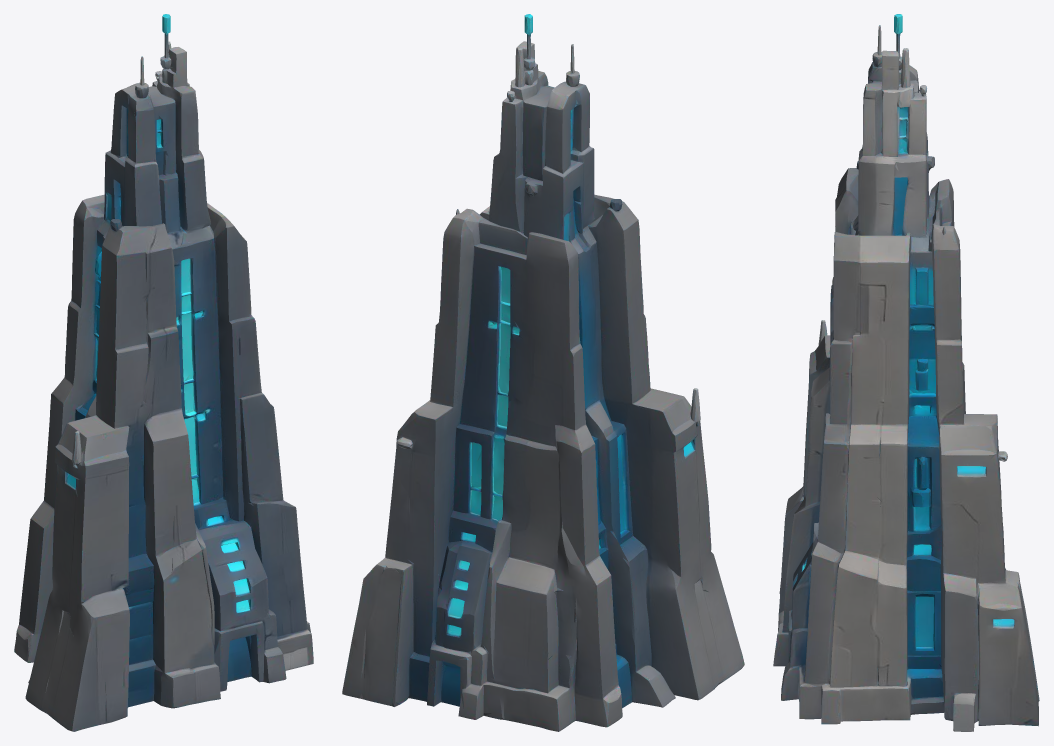
3 views of the same model, side by side, from view 1: azimuth 30°, elevation 25°; view 2: azimuth 150°, elevation 25°; view 3: azimuth 270°, elevation 25° (orthographic). The views are drawn at different scales.
Parts seen in each view (by area): view 1: Mesh; view 2: Mesh; view 3: Mesh.
Part boxes in pixels (left/top/right/bottom): Mesh: left=14, top=14, right=313, bottom=731; Mesh: left=342, top=14, right=744, bottom=731; Mesh: left=773, top=14, right=1039, bottom=731.
Bounding box in the file's own units: 0.8666 × 1.9 × 0.6997.
1 material, 1 textured.
